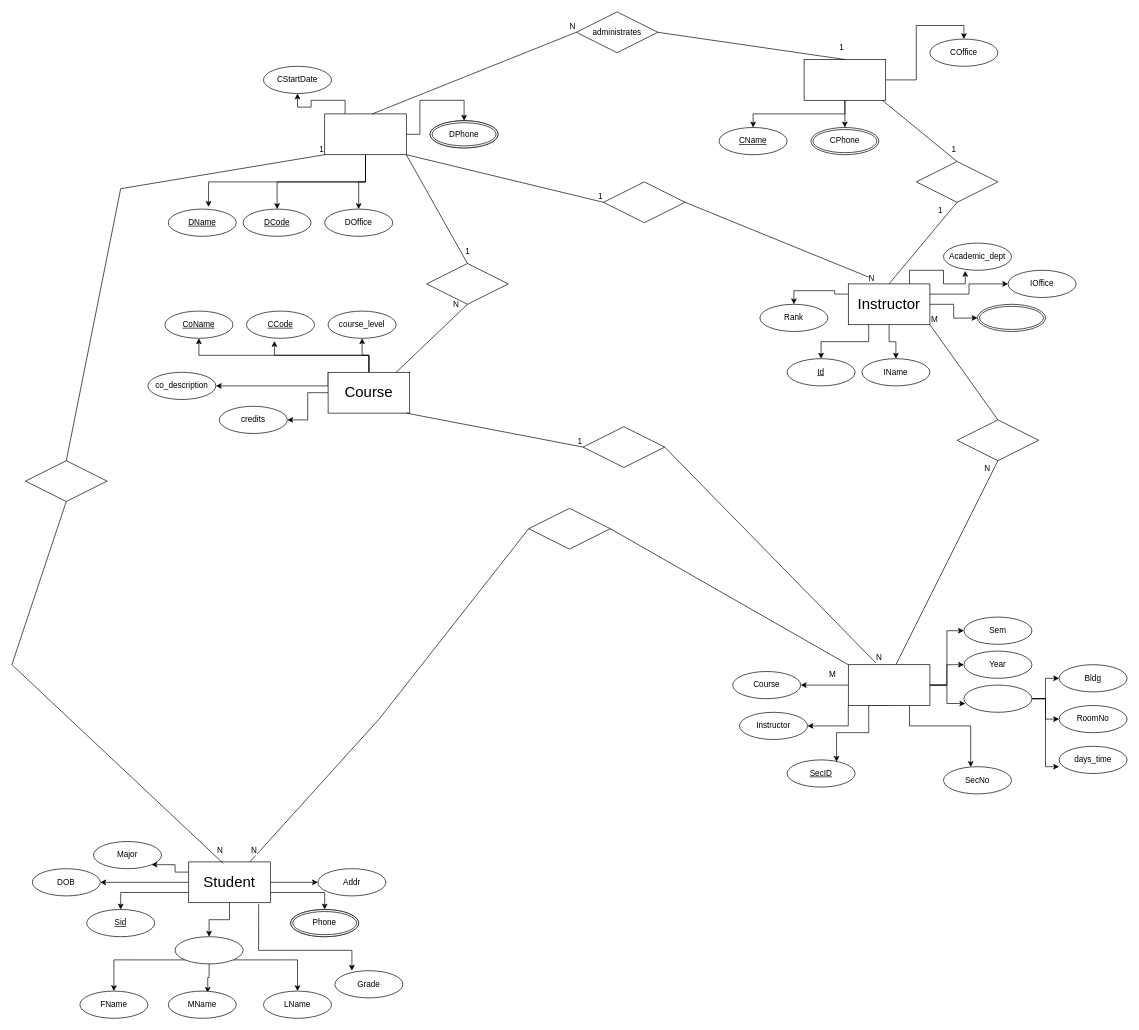
The diagram is 1139 pixels wide and 1030 high, and some of its shapes have lost their labels. Each missing label, with the box of its shape:
belongs to: (25, 460, 107, 502)
chairs: (603, 181, 685, 223)
College: (803, 59, 886, 100)
CRoom: (963, 684, 1032, 712)
DEPT: (324, 113, 406, 155)
has: (582, 426, 665, 468)
IPhone: (977, 304, 1046, 332)
is in: (528, 508, 610, 549)
manages: (916, 161, 998, 202)
offers: (426, 263, 508, 304)
SECTION: (848, 664, 930, 706)
SName: (174, 936, 243, 964)
teaches: (956, 419, 1039, 461)
